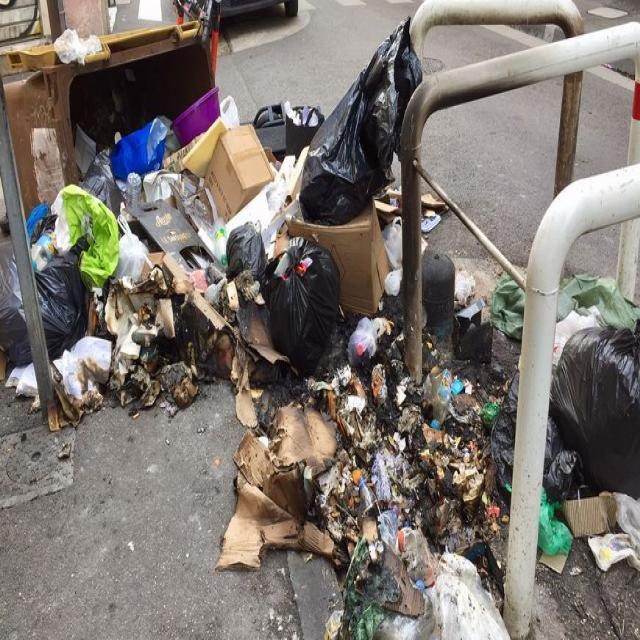Trashbag: (286, 39, 418, 231), (532, 323, 640, 496), (1, 216, 80, 385), (262, 243, 348, 360), (227, 218, 269, 277)
